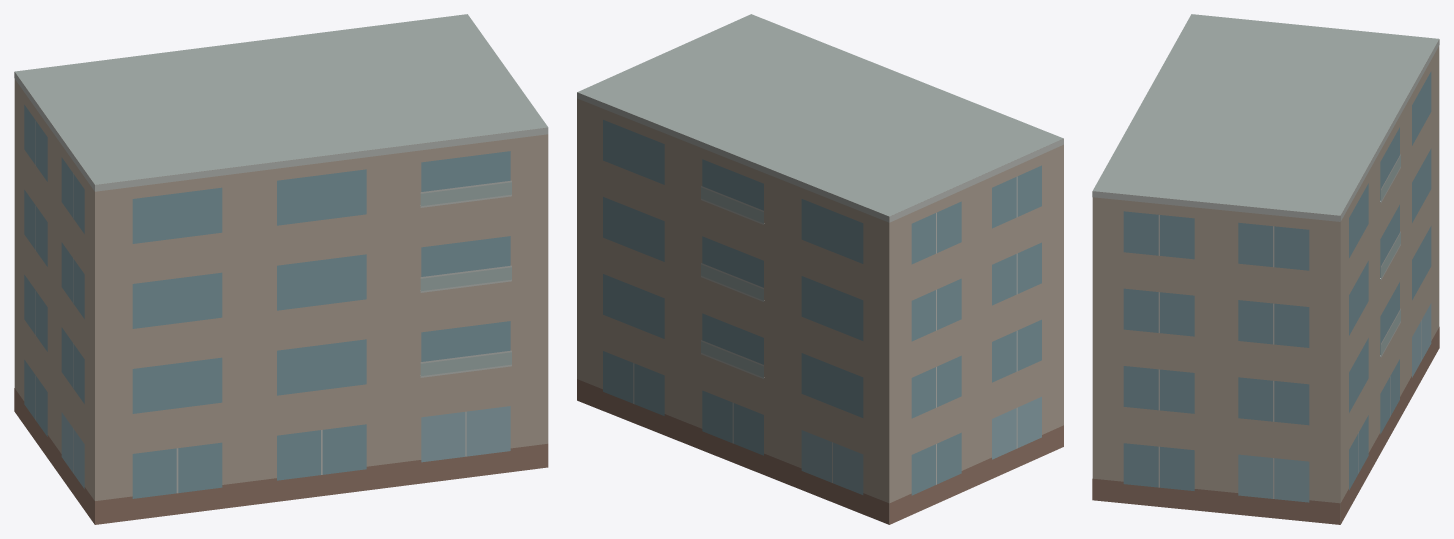
Rendered from residential-f2f5dc15-543e-4ed2-8c34-e75767dbdc2d.glb.
3 renders of one model, left to right at view 1: azimuth 30°, elevation 25°; view 2: azimuth 150°, elevation 25°; view 3: azimuth 270°, elevation 25°, orthographic. The views are drawn at different scales.
Visible parts, largest first — view 1: residential-f2f5dc15-543e-4ed2-8c34-e75767dbdc2d.tmp; view 2: residential-f2f5dc15-543e-4ed2-8c34-e75767dbdc2d.tmp; view 3: residential-f2f5dc15-543e-4ed2-8c34-e75767dbdc2d.tmp.
Part boxes in pixels (<box>): residential-f2f5dc15-543e-4ed2-8c34-e75767dbdc2d.tmp: <box>14,14,548,524</box>; residential-f2f5dc15-543e-4ed2-8c34-e75767dbdc2d.tmp: <box>577,14,1063,524</box>; residential-f2f5dc15-543e-4ed2-8c34-e75767dbdc2d.tmp: <box>1092,14,1439,524</box>.
Bounding box in the file's own units: 17.09 × 12.2 × 12.42.
